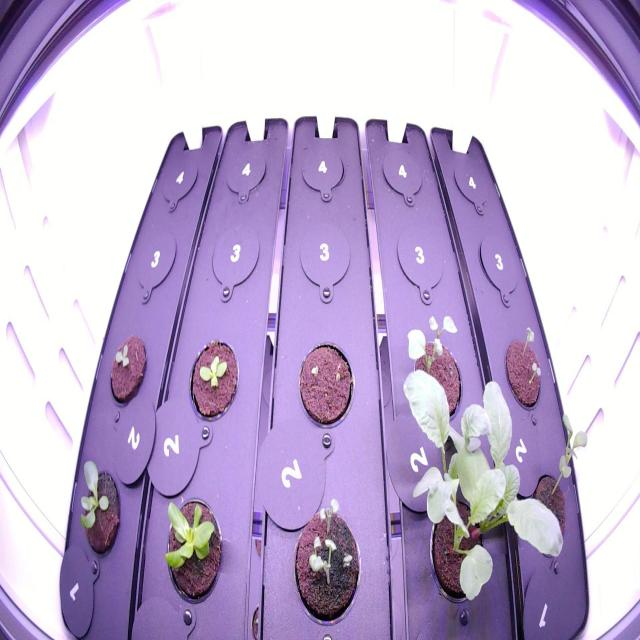empty_pod: (293, 215, 356, 299), (204, 218, 266, 299), (130, 220, 186, 305), (390, 219, 449, 297), (474, 225, 526, 300), (296, 134, 350, 202), (377, 138, 430, 206), (221, 132, 270, 202), (155, 144, 203, 212), (446, 147, 494, 210)
germination: (285, 488, 368, 631), (294, 333, 359, 432), (501, 316, 549, 421), (102, 327, 152, 412)
young: (154, 486, 226, 610), (68, 446, 125, 565), (182, 333, 246, 428)
